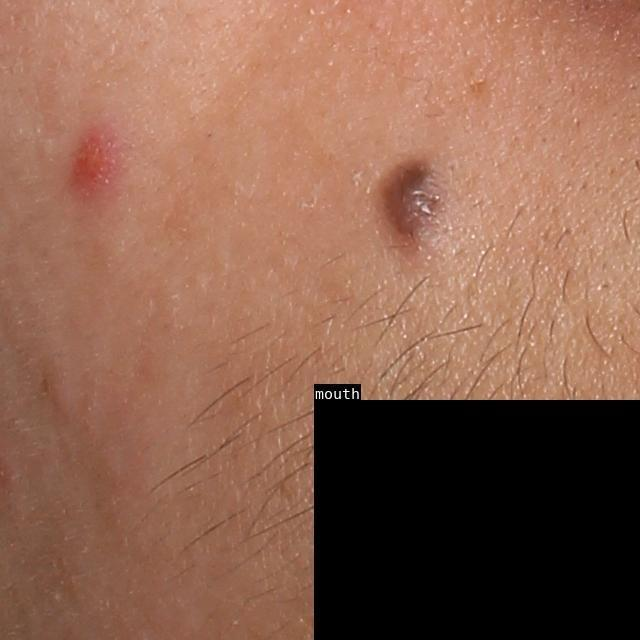nevus: (372, 127, 457, 249)
papule: (65, 126, 119, 196)
